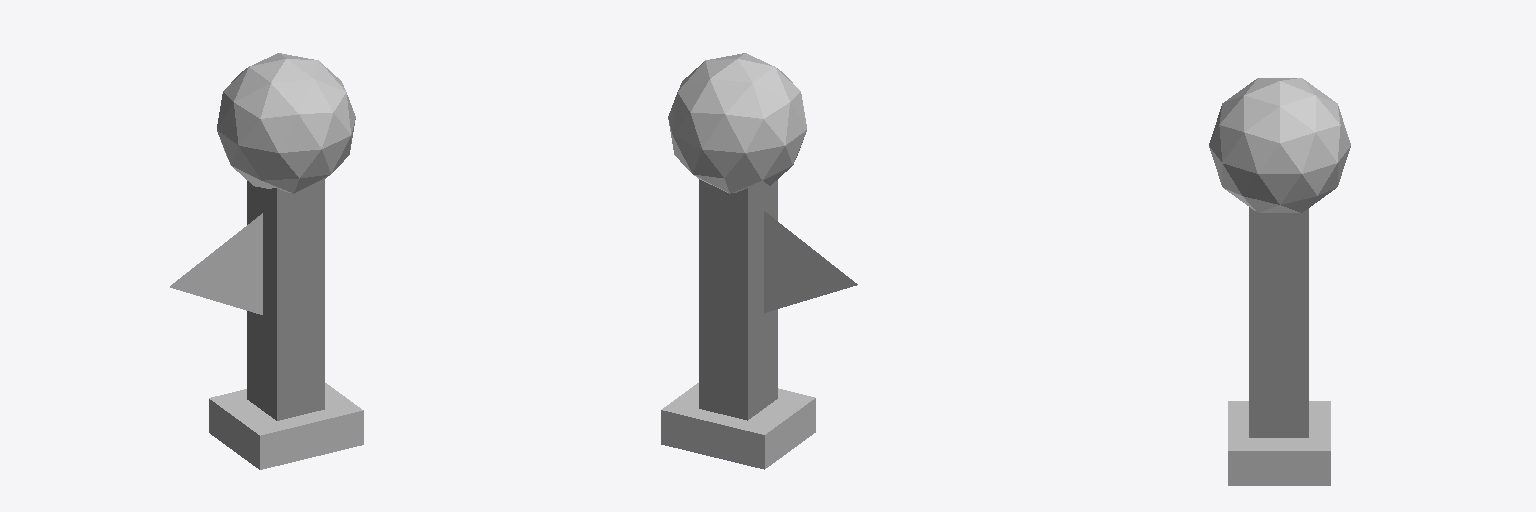
Rendered from marker.obj.
3 renders of one model, left to right at view 1: azimuth 30°, elevation 25°; view 2: azimuth 150°, elevation 25°; view 3: azimuth 270°, elevation 25°, orthographic.
Parts seen in each view (by area): view 1: Cube.002, Icosphere, Cube.001, Plane; view 2: Cube.002, Icosphere, Cube.001, Plane; view 3: Icosphere, Cube.002, Cube.001.
Part boxes in pixels (x1,y1,x2,y2): Cube.002: (247,179,324,420); Icosphere: (217,53,355,193); Cube.001: (209,383,363,469); Plane: (170,213,262,314); Cube.002: (699,179,777,420); Icosphere: (668,53,806,193); Cube.001: (661,383,815,469); Plane: (764,211,857,312); Icosphere: (1209,78,1350,212); Cube.002: (1249,207,1308,437); Cube.001: (1228,401,1330,485).
Size of the model in its own units: 1.86 by 3.8 by 1.29.